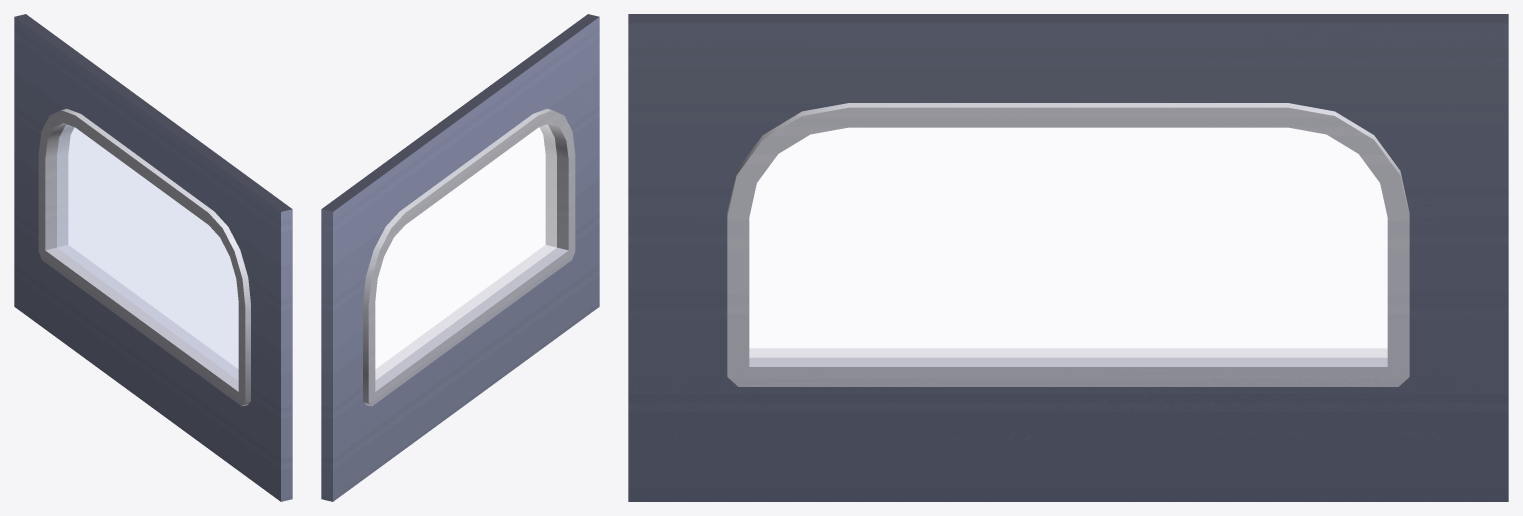
Rendered from architecture.window.building_wall_window_wide_round_01.glb.
The picture shows the model from 3 angles, left to right: view 1: azimuth 30°, elevation 25°; view 2: azimuth 150°, elevation 25°; view 3: azimuth 270°, elevation 25°; orthographic projection. The views are drawn at different scales.
Visible parts, largest first — view 1: wall-window-wide-round, (%ignore); view 2: wall-window-wide-round, (%ignore); view 3: wall-window-wide-round, (%ignore).
Boxes of the visible parts, x1,y1,x2,y2 form: wall-window-wide-round: [14, 14, 292, 501]; (%ignore): [57, 124, 238, 380]; wall-window-wide-round: [321, 14, 599, 501]; (%ignore): [375, 124, 556, 380]; wall-window-wide-round: [628, 14, 1508, 501]; (%ignore): [749, 127, 1387, 357].
Size of the model in its own units: 0.2 by 2.4 by 4.
2 materials, 1 textured.
